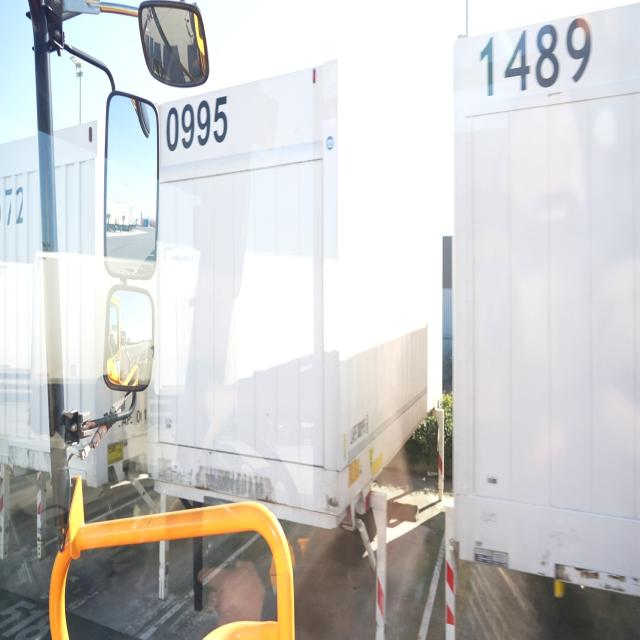Code: (471, 13, 600, 101), (165, 94, 231, 152)
